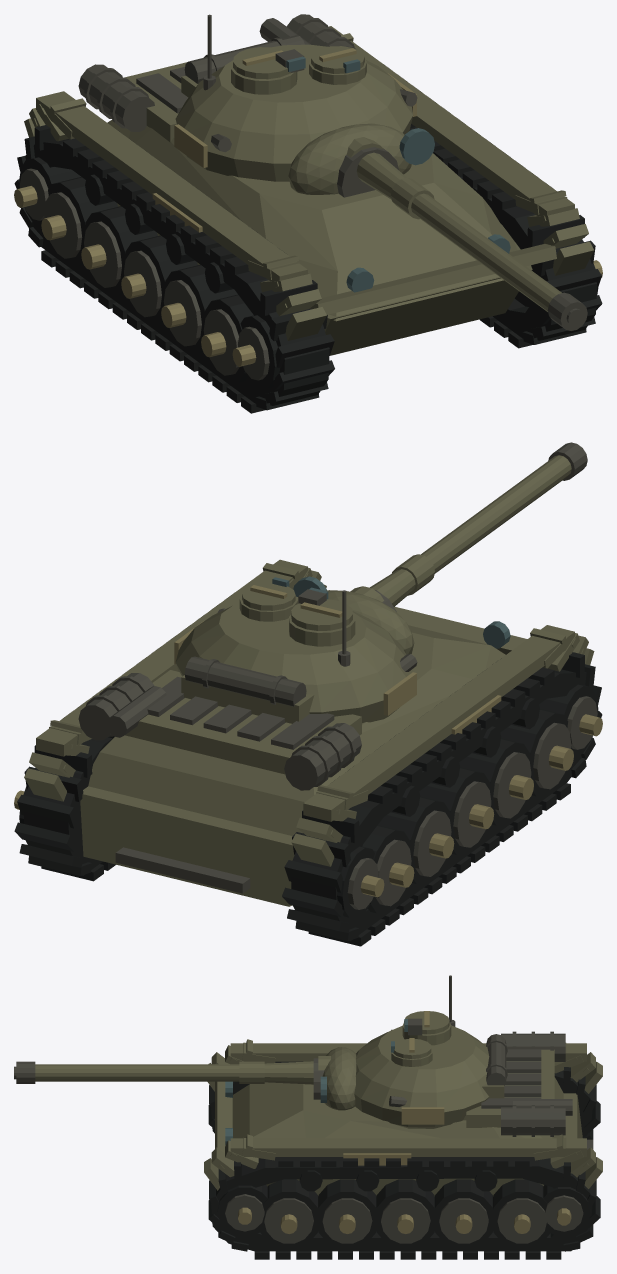
Rendered from Bastion_Tank_Static.obj.
3 renders of one model, top to bottom at view 1: azimuth 30°, elevation 25°; view 2: azimuth 150°, elevation 25°; view 3: azimuth 270°, elevation 25°, orthographic. The views are drawn at different scales.
Visible parts, largest first — view 1: Bastion_Tank_Static; view 2: Bastion_Tank_Static; view 3: Bastion_Tank_Static.
Boxes of the visible parts, box(x1,y1,x2,y2) form: Bastion_Tank_Static: box(14, 14, 602, 413); Bastion_Tank_Static: box(14, 442, 602, 946); Bastion_Tank_Static: box(14, 975, 602, 1259).
Size of the model in its own units: 3.87 by 2.83 by 7.47.
1 material, 1 textured.
